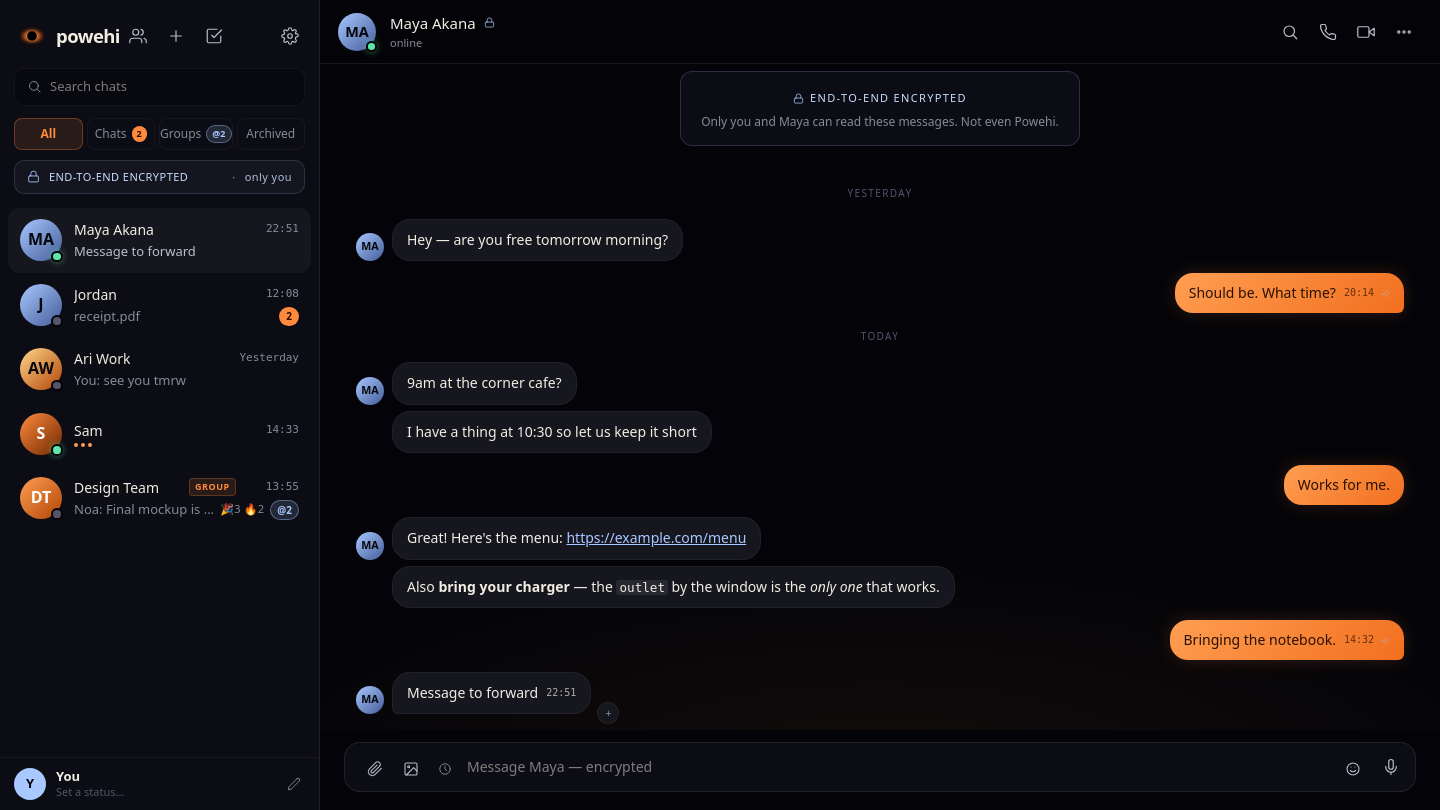
Scenario: ChatLayout — message forwarding › forward button appears on hover for an incoming message with a stable envelope id
(page scrolled)
Step 1. Hover over the element with test id "message-bubble" showing "MA Message to forward 22:51 +" → (488, 698), box [356,672,619,724]
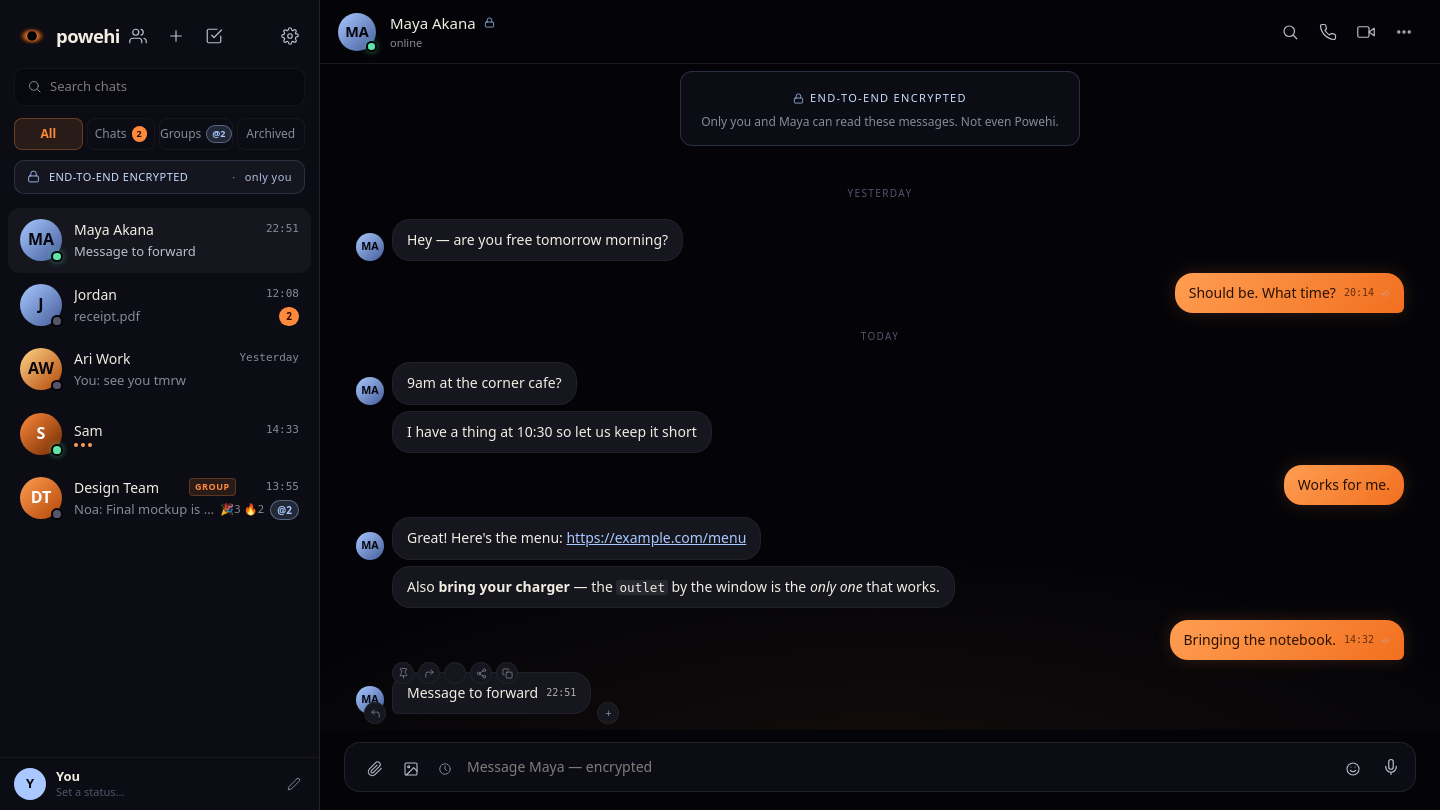
Expected: the button with test id "forward-button" is shown, [418,662,440,684]
